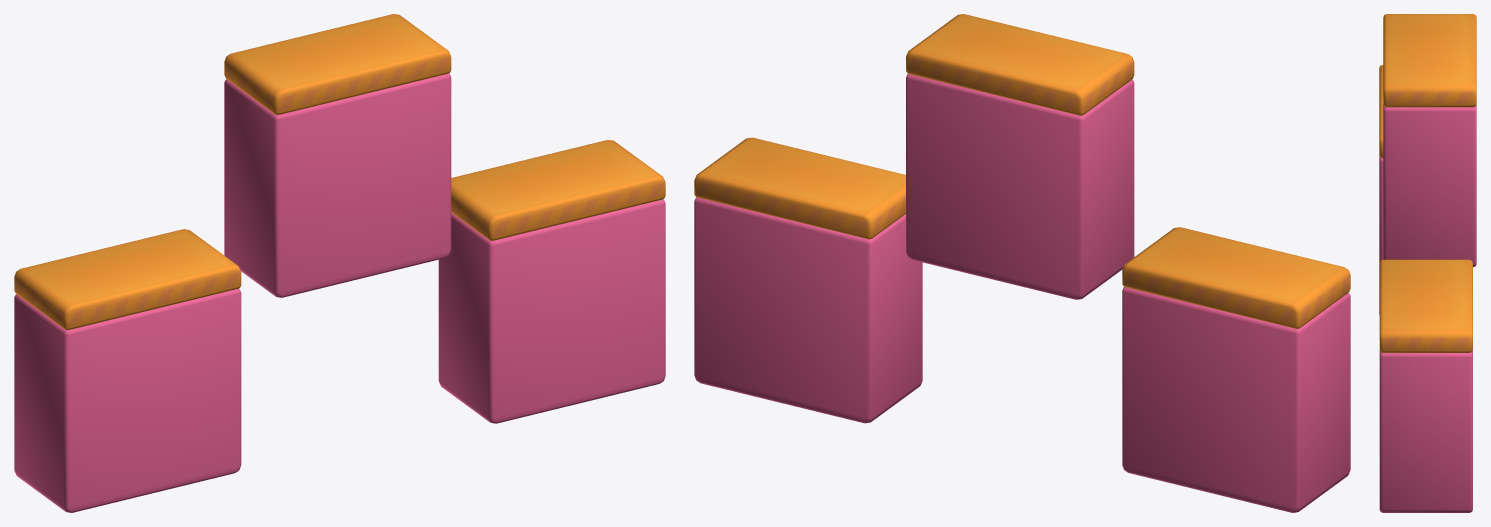
The model's file is escalones.fbx.
The picture shows the model from 3 angles, left to right: view 1: azimuth 30°, elevation 25°; view 2: azimuth 150°, elevation 25°; view 3: azimuth 270°, elevation 25°; orthographic projection. The views are drawn at different scales.
Parts seen in each view (by area): view 1: RisingPlatform.002_RisingPlatform.002_0, RisingPlatform.003_RisingPlatform.003_0, RisingPlatform_RisingPlatform_0; view 2: RisingPlatform.002_RisingPlatform.002_0, RisingPlatform.003_RisingPlatform.003_0, RisingPlatform_RisingPlatform_0; view 3: RisingPlatform_RisingPlatform_0, RisingPlatform.003_RisingPlatform.003_0, RisingPlatform.002_RisingPlatform.002_0.
Boxes of the visible parts, x1,y1,x2,y2 form: RisingPlatform.002_RisingPlatform.002_0: [14, 229, 241, 512]; RisingPlatform.003_RisingPlatform.003_0: [224, 14, 451, 297]; RisingPlatform_RisingPlatform_0: [438, 140, 665, 423]; RisingPlatform.002_RisingPlatform.002_0: [1122, 227, 1350, 512]; RisingPlatform.003_RisingPlatform.003_0: [906, 14, 1134, 299]; RisingPlatform_RisingPlatform_0: [694, 137, 922, 423]; RisingPlatform_RisingPlatform_0: [1379, 259, 1472, 512]; RisingPlatform.003_RisingPlatform.003_0: [1383, 14, 1476, 267]; RisingPlatform.002_RisingPlatform.002_0: [1379, 65, 1383, 314].
Size of the model in its own units: 1278 by 780 by 204.
Materials: 3 (3 with a texture image).
